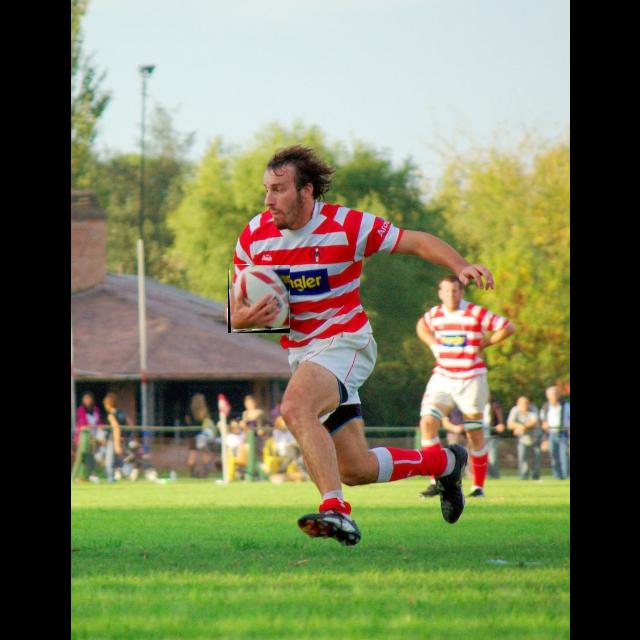Football: (228, 265, 290, 333)
